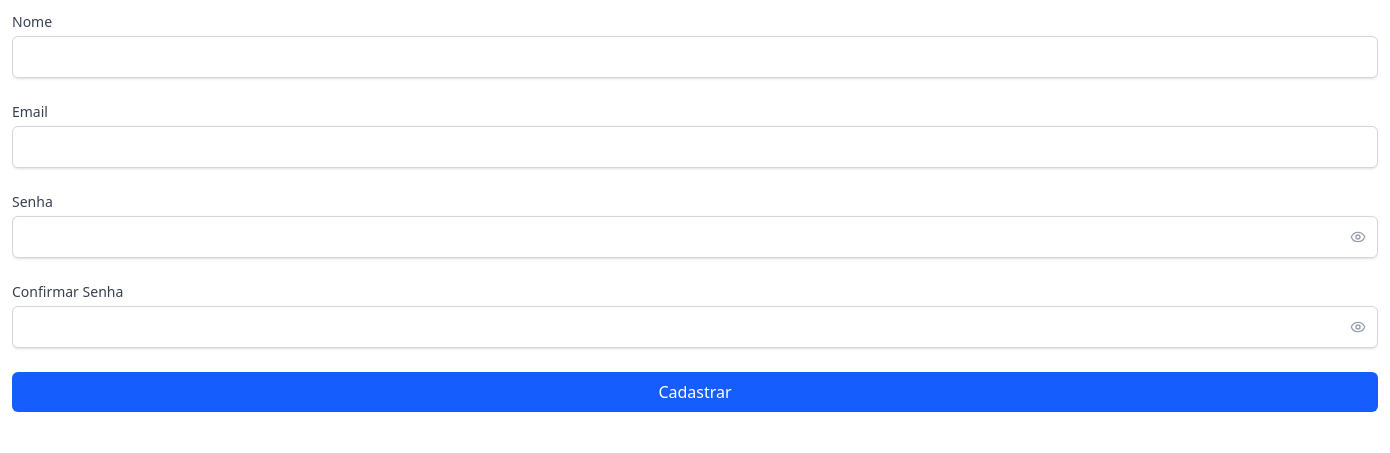
Test: RegisterForm › validates password confirmation
The width and height of the screenshot is (1390, 453).
Step 1. Type "João Silva" into the field labelled "Nome" → (695, 57), box [12,36,1378,78]
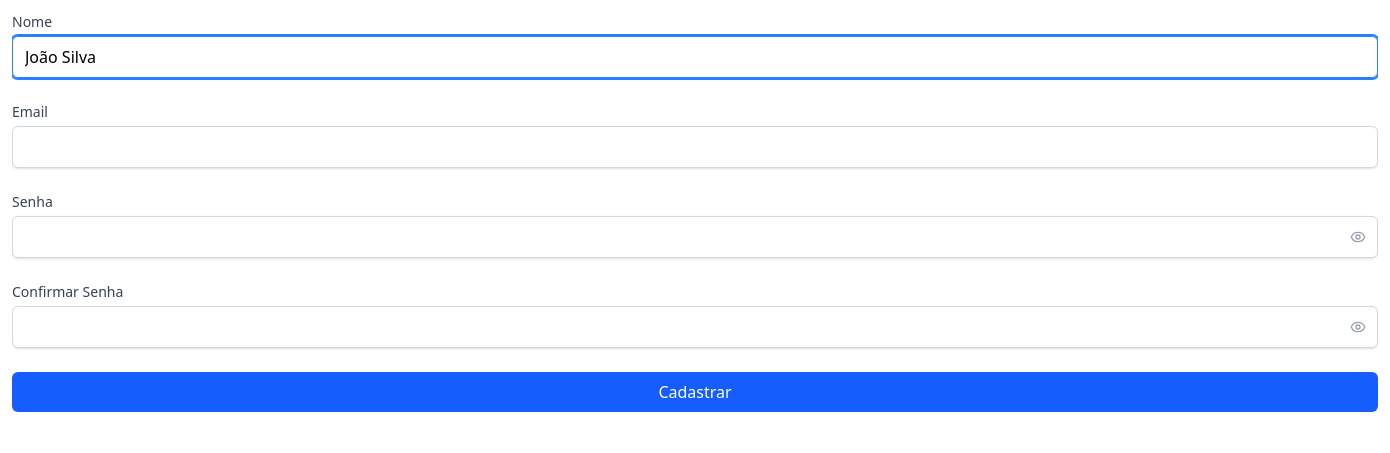
Step 2. Type "joao@example.com" into the field labelled "Email" → (695, 147), box [12,126,1378,168]
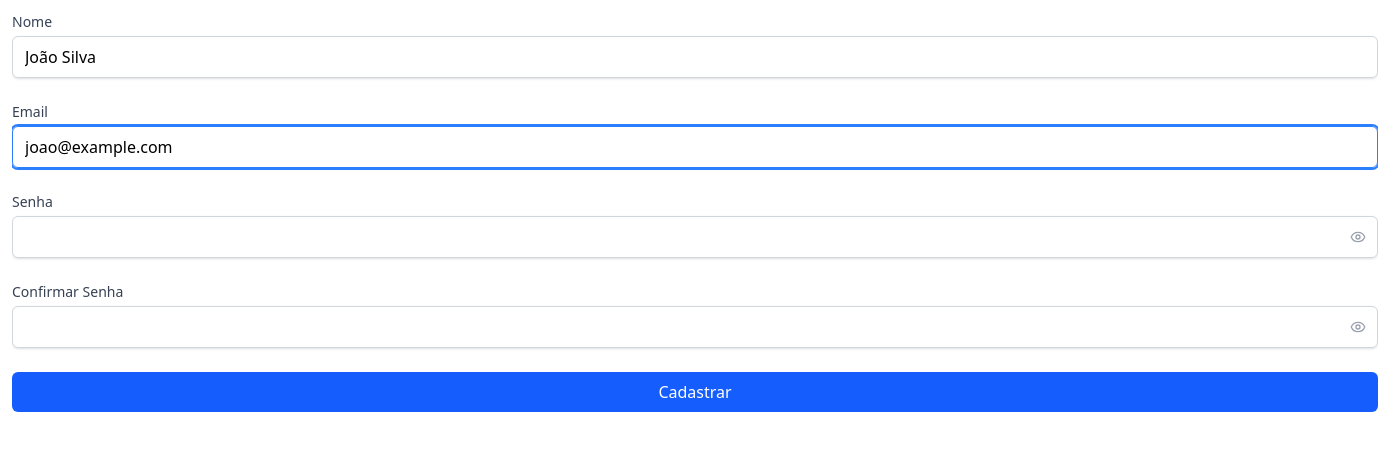
Step 3. Type "password123" into the field labelled "Senha" → (695, 237), box [12,216,1378,258]
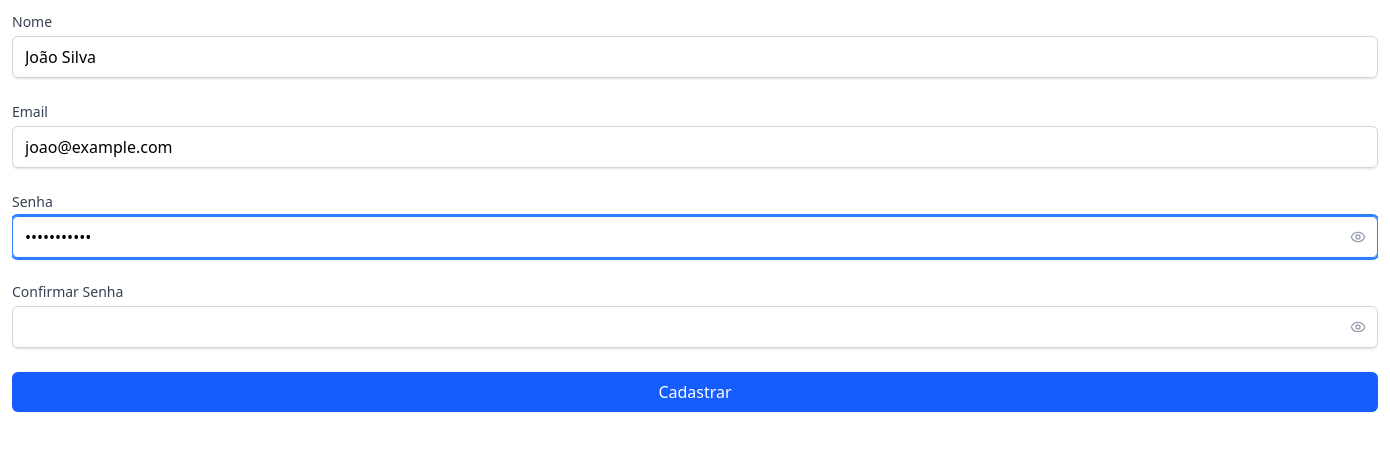
Step 4. Type "different" into the field labelled "Confirmar Senha" → (695, 327), box [12,306,1378,348]
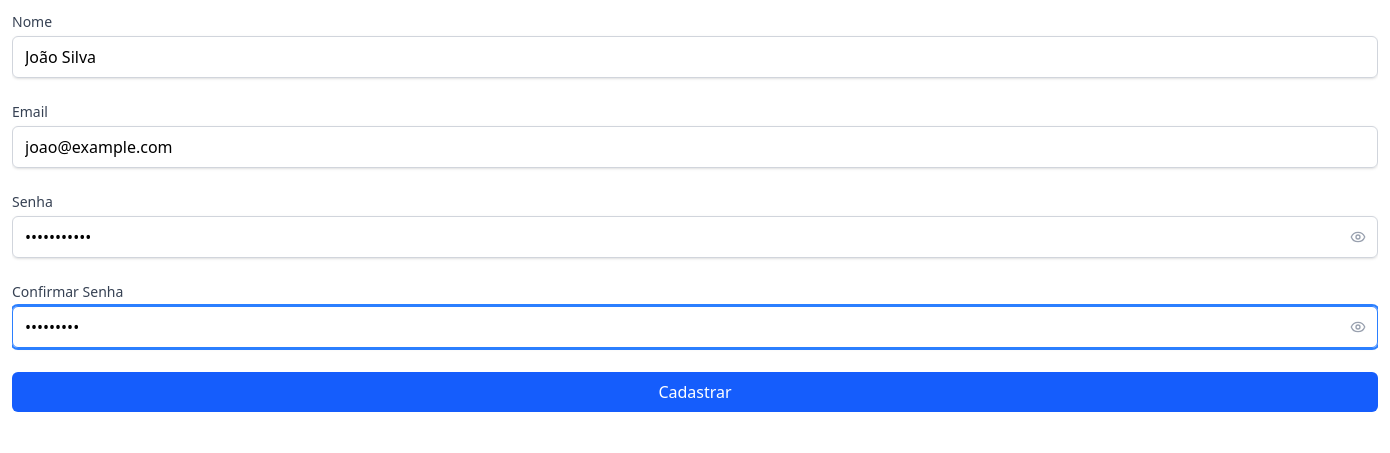
Step 5. Click the button "Cadastrar" → (695, 392), box [12,372,1378,412]
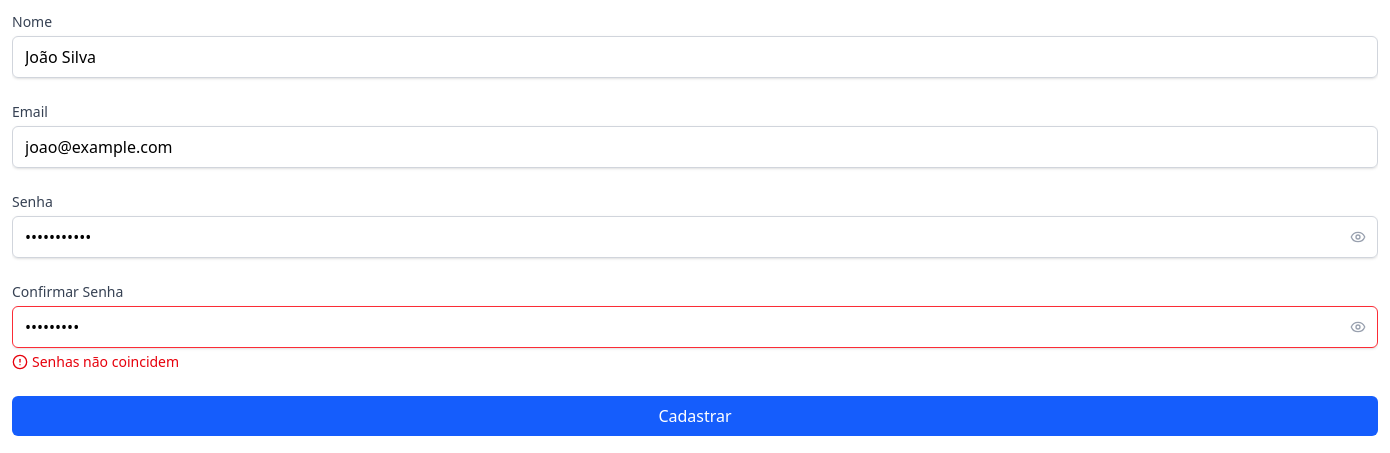
Check: the text "Senhas não coincidem" is shown, box [12,352,179,371]
